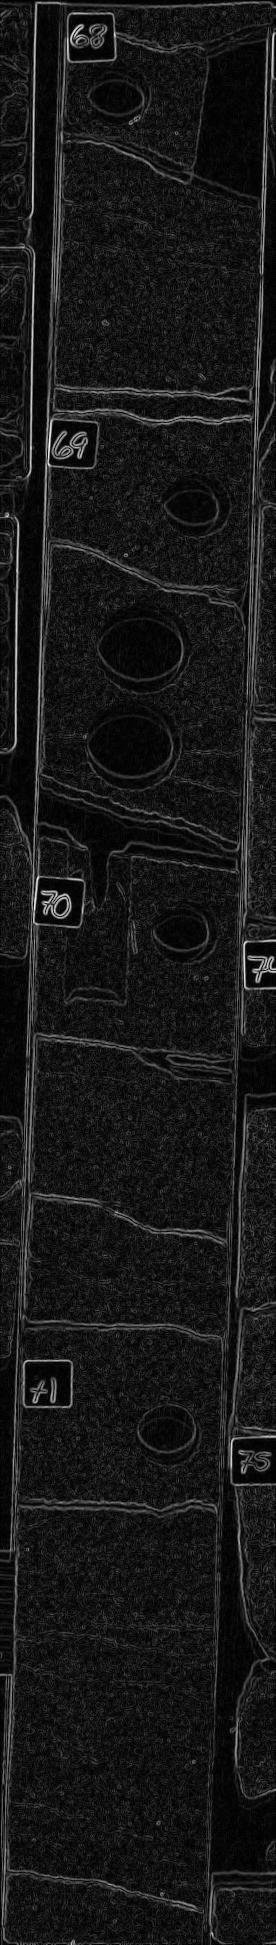hplug: (155, 465, 236, 545), (129, 1397, 210, 1475), (144, 897, 226, 971), (77, 60, 155, 133)
scal: (89, 590, 201, 697), (80, 700, 191, 799)
vplug: (57, 839, 139, 1017)
